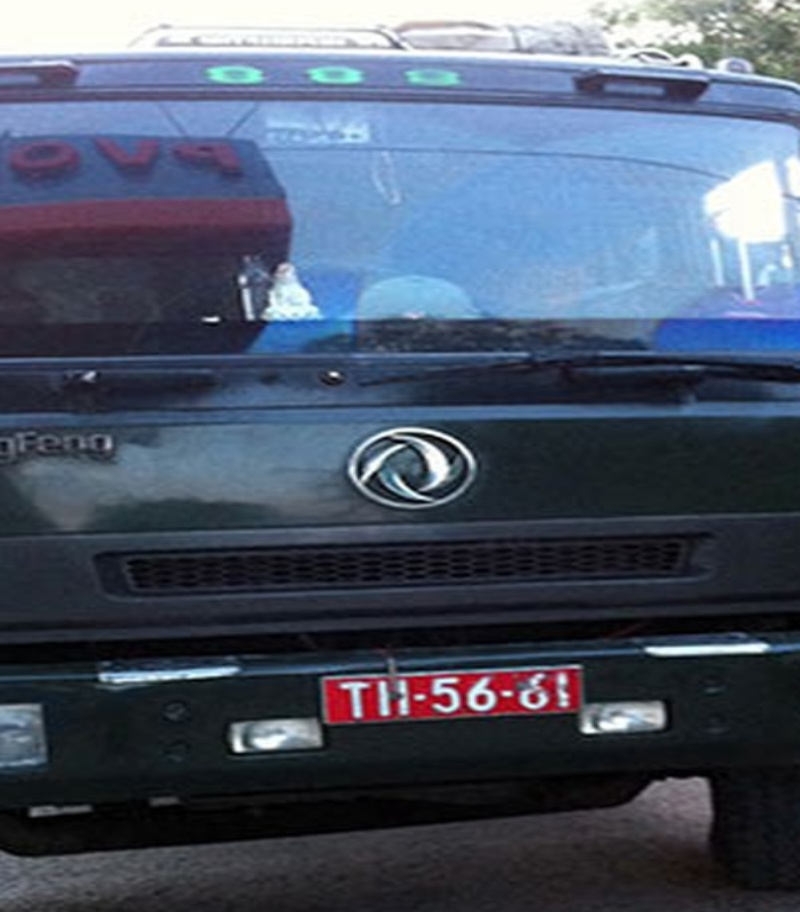plate: (314, 659, 589, 724)
